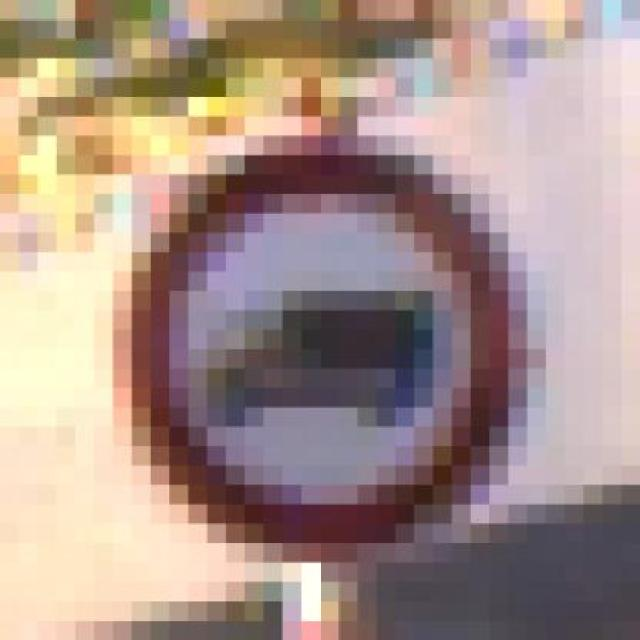Truck traffic is prohibited: (94, 97, 528, 543)
